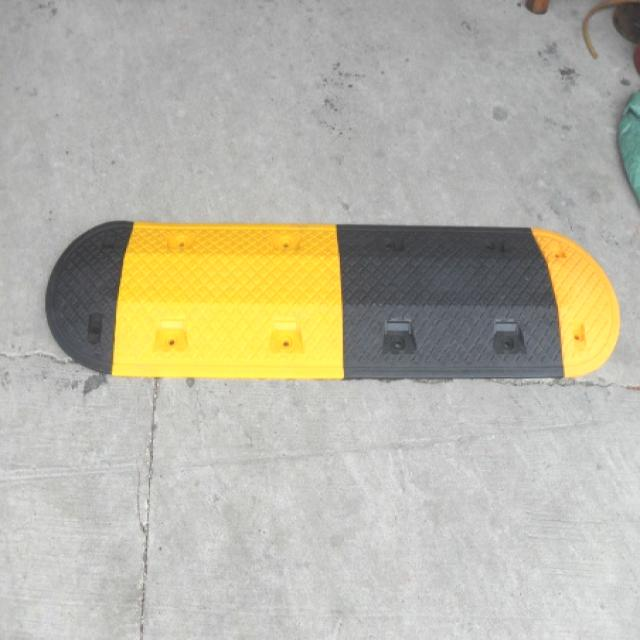Speed Bump: (56, 218, 604, 384)
